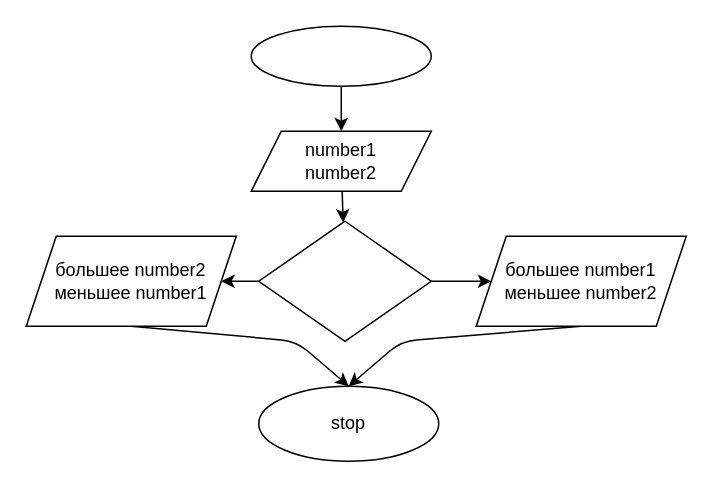
The diagram is 713 pixels wide and 488 high, and some of its shapes have lost their labels. Here are the shapes that lost their labels. From the top down, the box of each, then its label:
(250, 25, 431, 86): start
(257, 220, 431, 341): number1>number2
